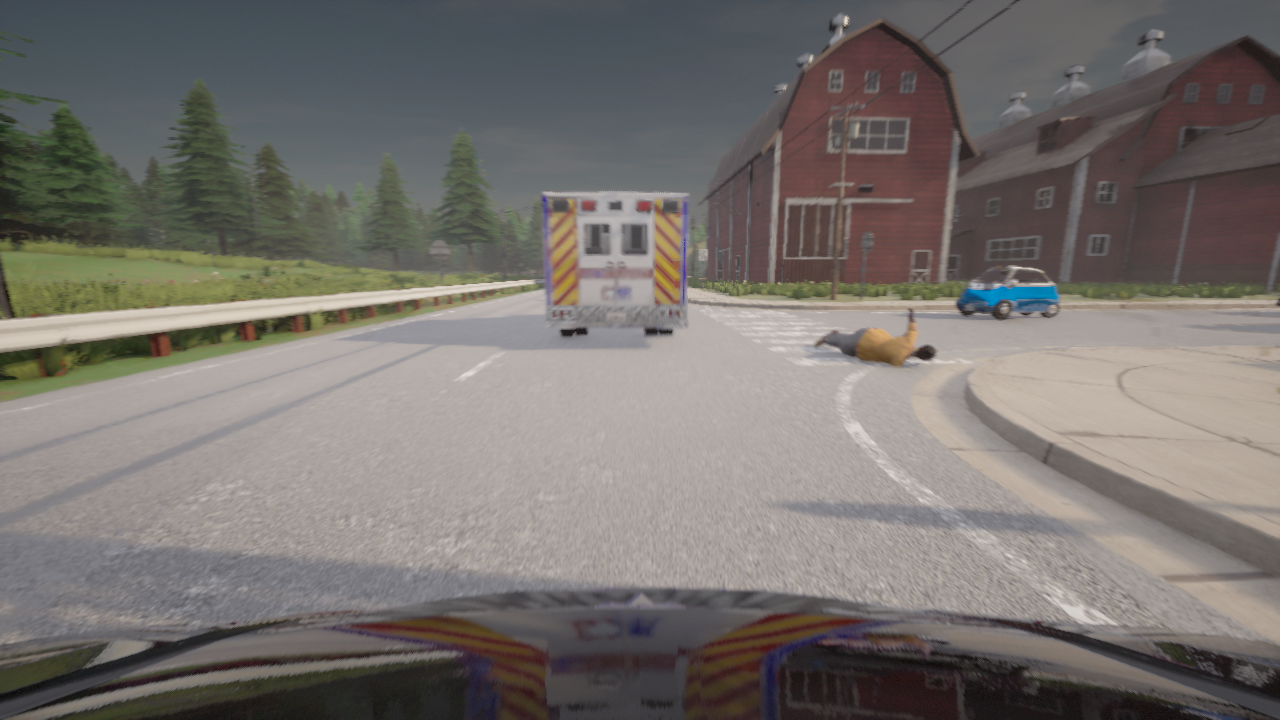cyclist: (0, 588, 1279, 719), (541, 192, 687, 336), (955, 266, 1059, 319), (1276, 295, 1279, 305)
pedestrian: (814, 309, 936, 366)
